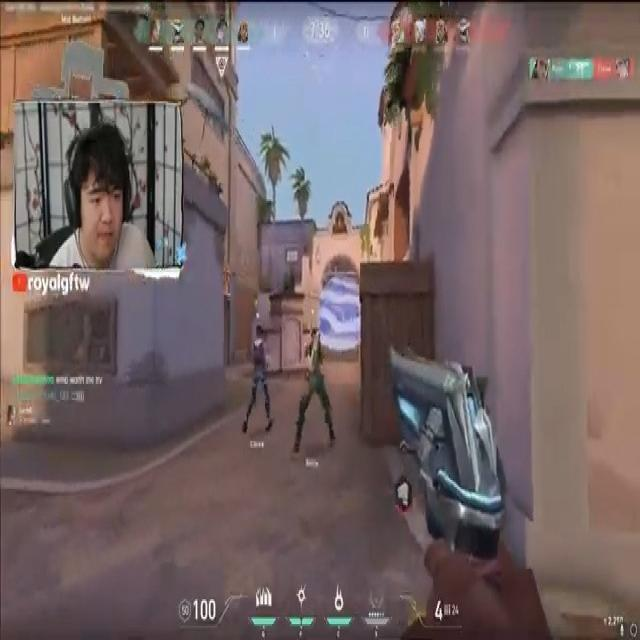ally: (294, 325, 338, 457), (241, 318, 277, 440)
smoke: (323, 280, 362, 346)
